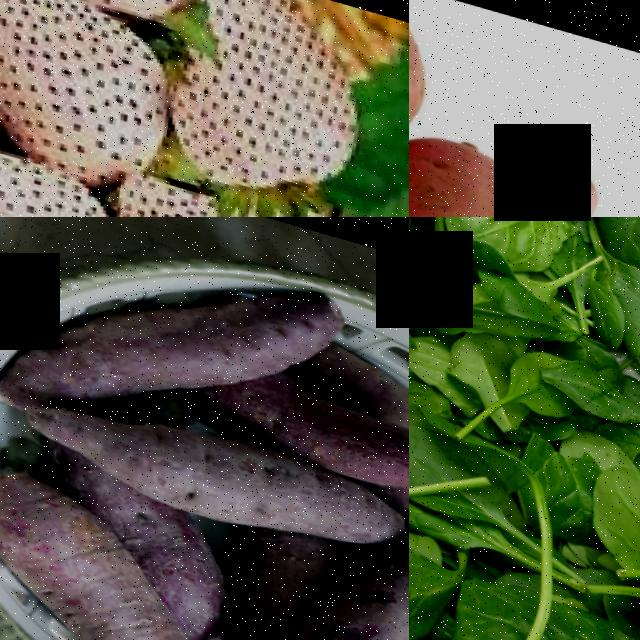spinach: (413, 248, 554, 349), (578, 457, 640, 575), (579, 253, 640, 347), (455, 217, 564, 260), (409, 408, 461, 488), (592, 217, 640, 264)
strawberry: (157, 0, 376, 204), (0, 0, 178, 184), (133, 171, 326, 217)
sweet potato: (0, 217, 352, 478), (5, 376, 409, 559), (0, 451, 272, 640), (237, 354, 409, 500), (409, 96, 610, 217), (262, 488, 409, 640)
